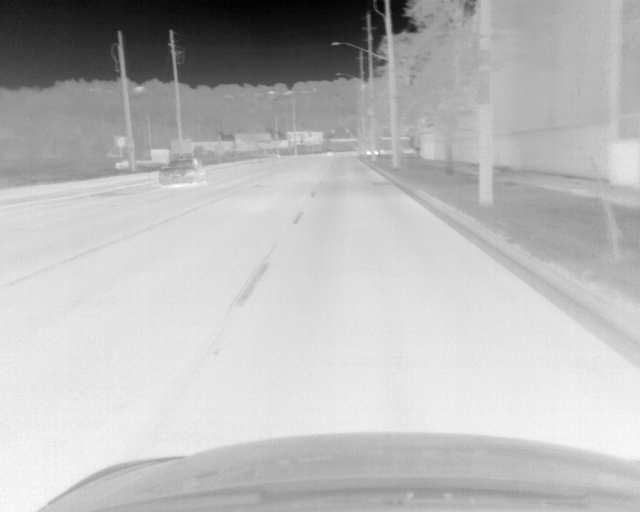car: (158, 157, 207, 185)
